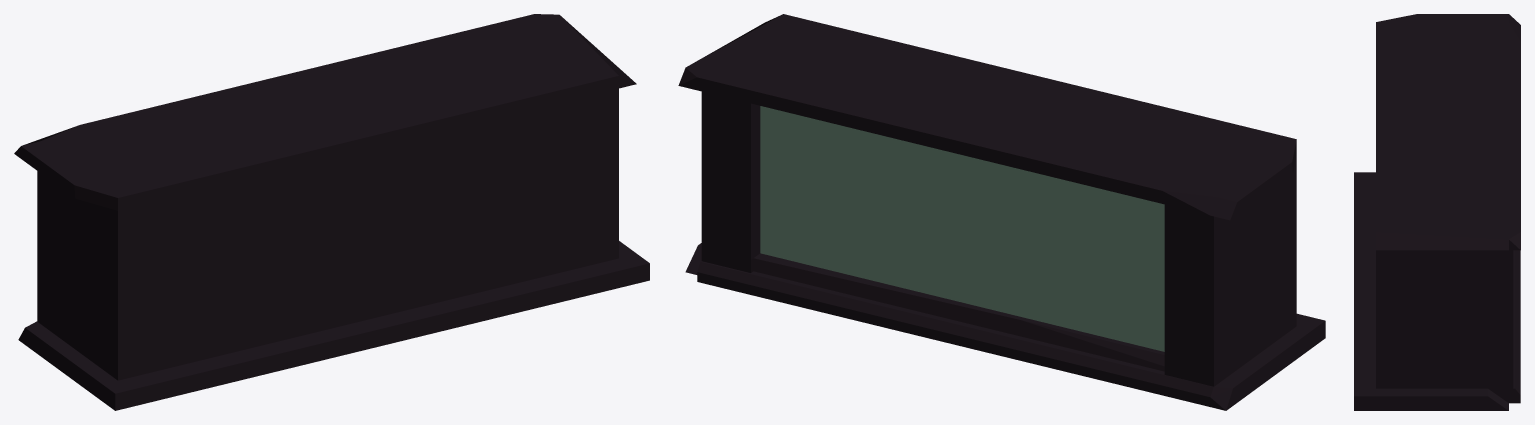
Rendered from Meja DJ 2.fbx.
3 views of the same model, side by side, from view 1: azimuth 30°, elevation 25°; view 2: azimuth 150°, elevation 25°; view 3: azimuth 270°, elevation 25° (orthographic). The views are drawn at different scales.
Visible parts, largest first — view 1: Cube; view 2: Cube; view 3: Cube.
Part boxes in pixels (x1,y1,x2,y2): Cube: (14,14,649,410); Cube: (678,14,1325,410); Cube: (1354,14,1520,410).
Size of the model in its own units: 803 by 284 by 251.
